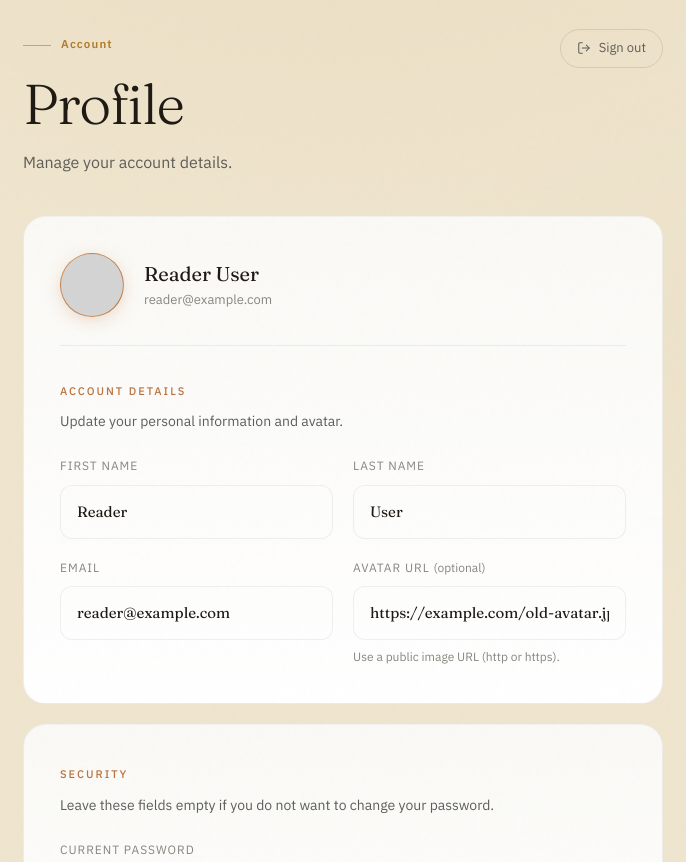
Test: ProfilePage › submits profile changes with avatar and shows success feedback
The width and height of the screenshot is (686, 862).
Replace the text in the field labelled "First name" with "Updated" at (196, 512), box [60,485,333,539]
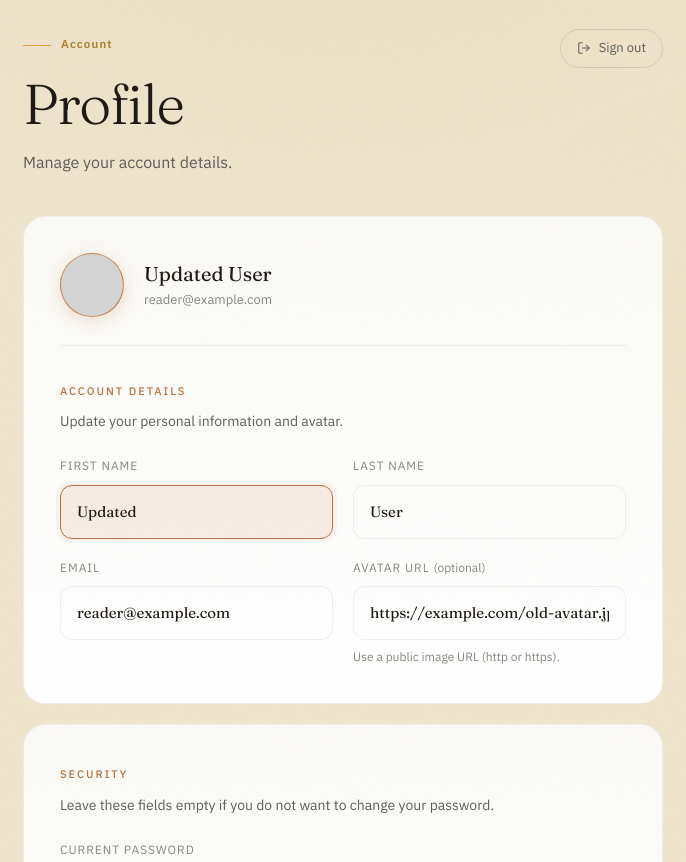
Replace the text in the field labelled "Avatar URL (optional)" with "https://example.com/new-avatar.jpg" at (490, 613), box [353,586,626,640]
(page scrolled)
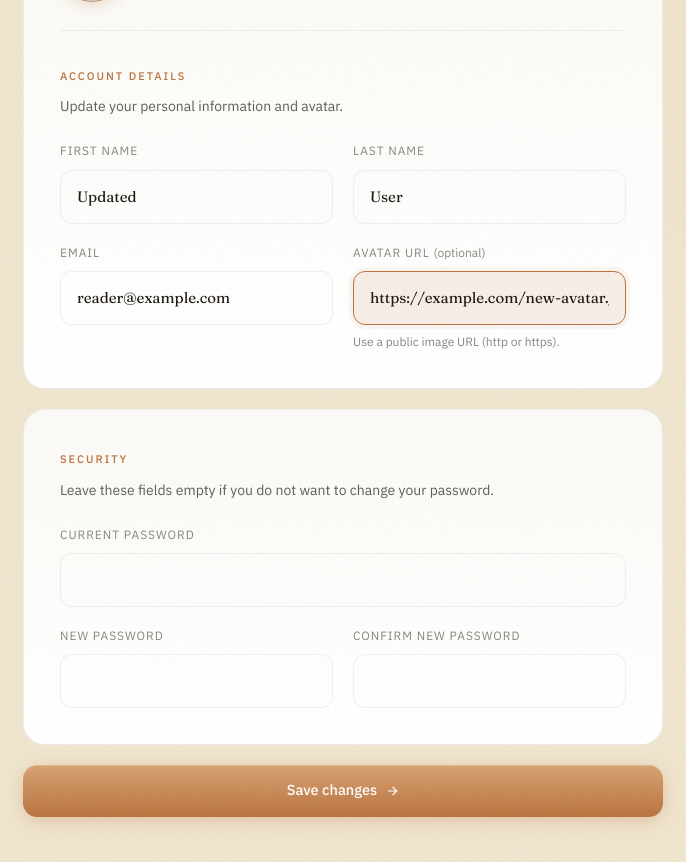
Click the button "Save changes" at (343, 791), box [23,765,663,817]
(page scrolled)
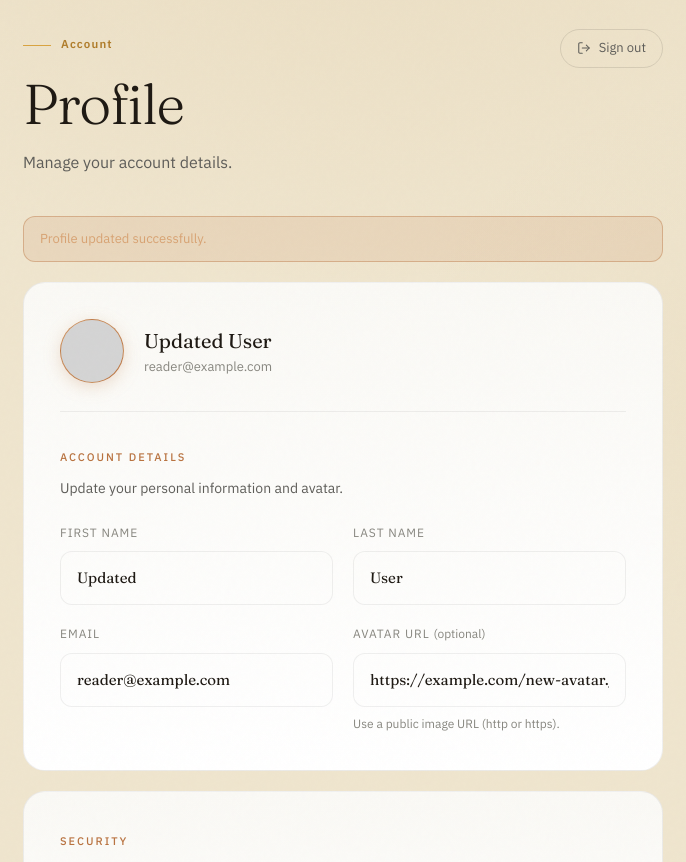
Check: the text "Profile updated successfully." is shown, box [23,216,663,262]
